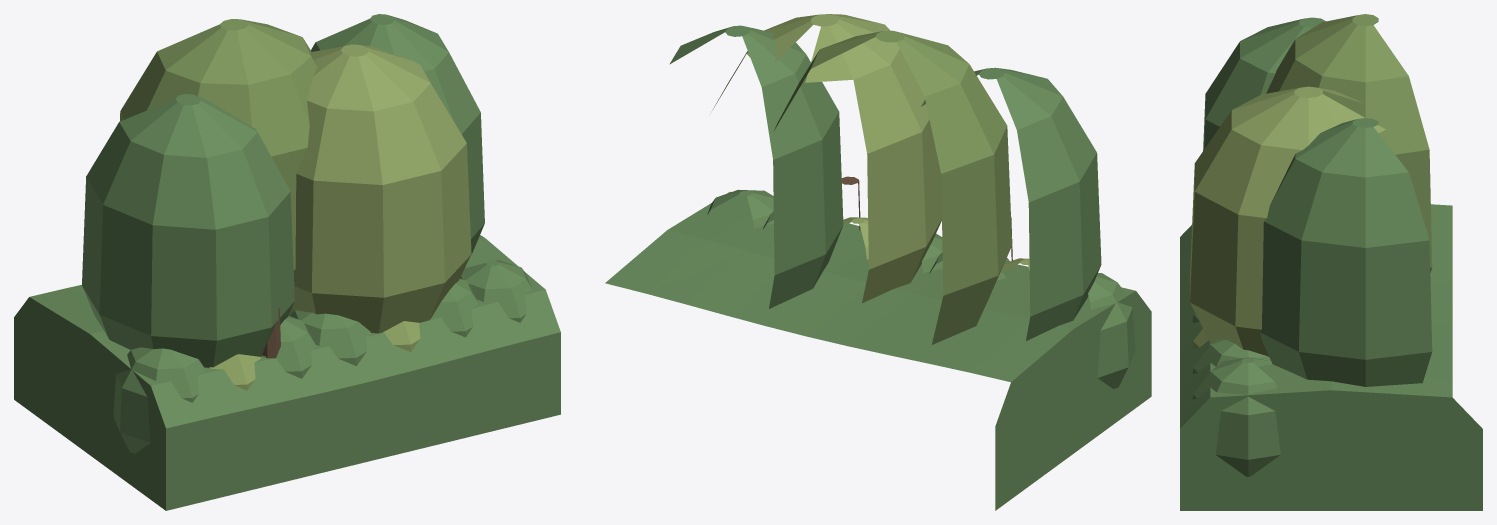
The model's file is edge_forest_round.glb.
3 views of the same model, side by side, from view 1: azimuth 30°, elevation 25°; view 2: azimuth 150°, elevation 25°; view 3: azimuth 270°, elevation 25° (orthographic). The views are drawn at different scales.
Parts seen in each view (by area): view 1: Leaf_Mesh, LeafLight_Mesh, LeafTip_Mesh; view 2: Leaf_Mesh, LeafLight_Mesh, LeafTip_Mesh; view 3: Leaf_Mesh, LeafLight_Mesh, LeafTip_Mesh.
Boxes of the visible parts, x1,y1,x2,y2 form: Leaf_Mesh: (14,14,560,510); LeafLight_Mesh: (208,44,471,390); LeafTip_Mesh: (120,19,317,315); Leaf_Mesh: (605,25,1151,510); LeafLight_Mesh: (710,14,1029,303); LeafTip_Mesh: (773,30,1012,344); Leaf_Mesh: (1180,17,1482,510); LeafLight_Mesh: (1190,86,1385,356); LeafTip_Mesh: (1266,14,1432,273).
Bounding box in the file's own units: 6.34 × 5.5 × 4.
